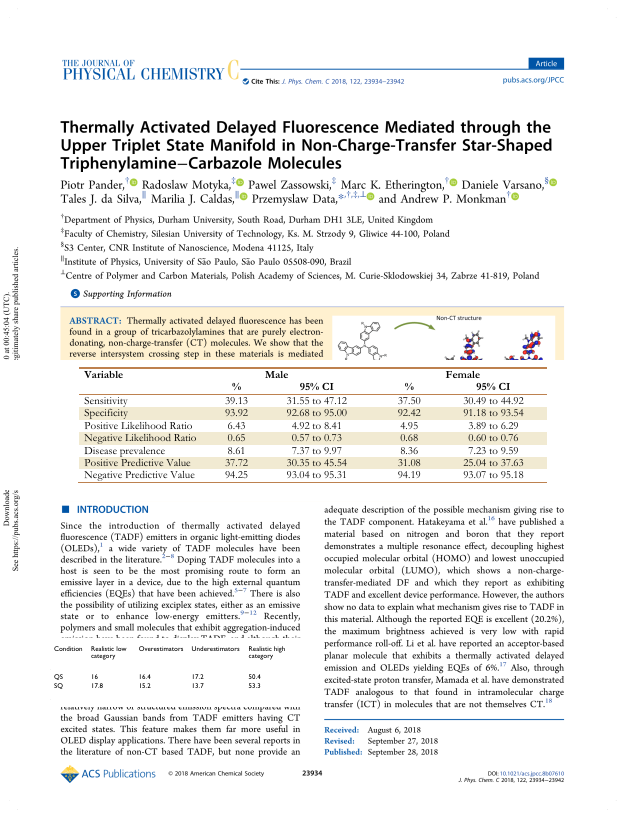borderless: (79, 365, 547, 482), (48, 643, 288, 701)
cell: (83, 433, 197, 445), (83, 470, 195, 482), (83, 420, 193, 432), (83, 458, 191, 470), (83, 445, 165, 457), (285, 396, 347, 408), (462, 396, 524, 408), (285, 408, 347, 420), (462, 408, 524, 420), (285, 458, 347, 470), (462, 458, 524, 470), (285, 470, 347, 482), (462, 470, 524, 482), (290, 420, 342, 432), (467, 420, 519, 432), (290, 433, 342, 445), (467, 433, 519, 445), (290, 445, 342, 457), (467, 445, 519, 457), (247, 645, 286, 661), (89, 645, 127, 661), (83, 396, 128, 408), (83, 408, 128, 420), (190, 645, 240, 654), (137, 645, 184, 654), (83, 369, 124, 379), (444, 369, 480, 379), (298, 382, 334, 391), (475, 382, 511, 391), (223, 396, 248, 408), (396, 396, 421, 408), (223, 408, 248, 420), (396, 408, 421, 420), (223, 458, 248, 470), (396, 458, 421, 470), (223, 470, 248, 482), (396, 470, 421, 482), (53, 645, 83, 654), (263, 369, 289, 379), (226, 420, 246, 432), (226, 433, 246, 445), (226, 445, 246, 457), (399, 420, 418, 432), (399, 433, 418, 445), (399, 445, 418, 457), (137, 673, 151, 682), (190, 673, 204, 682), (247, 673, 261, 682), (89, 682, 103, 691), (137, 682, 151, 691), (190, 682, 204, 691), (247, 682, 261, 691), (230, 382, 241, 391), (403, 382, 414, 391), (53, 673, 63, 682), (53, 682, 63, 691), (89, 673, 98, 682)
